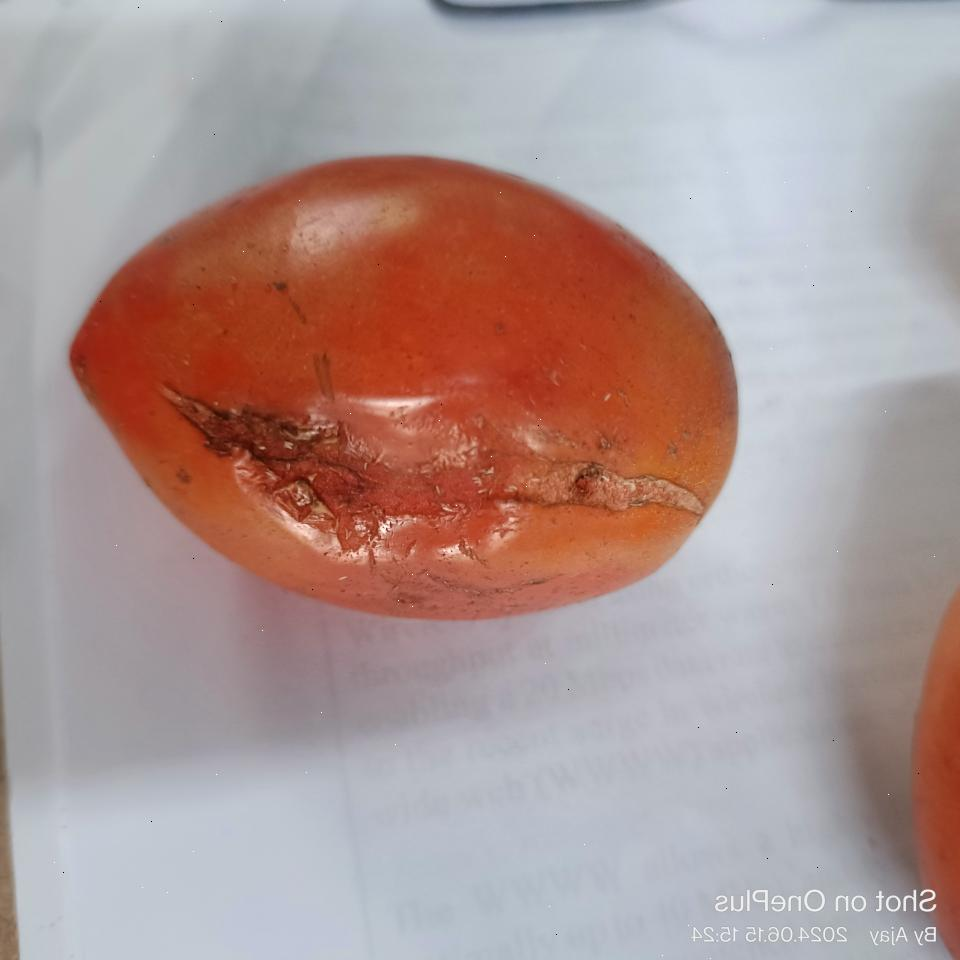Cracking: (135, 367, 696, 571)
